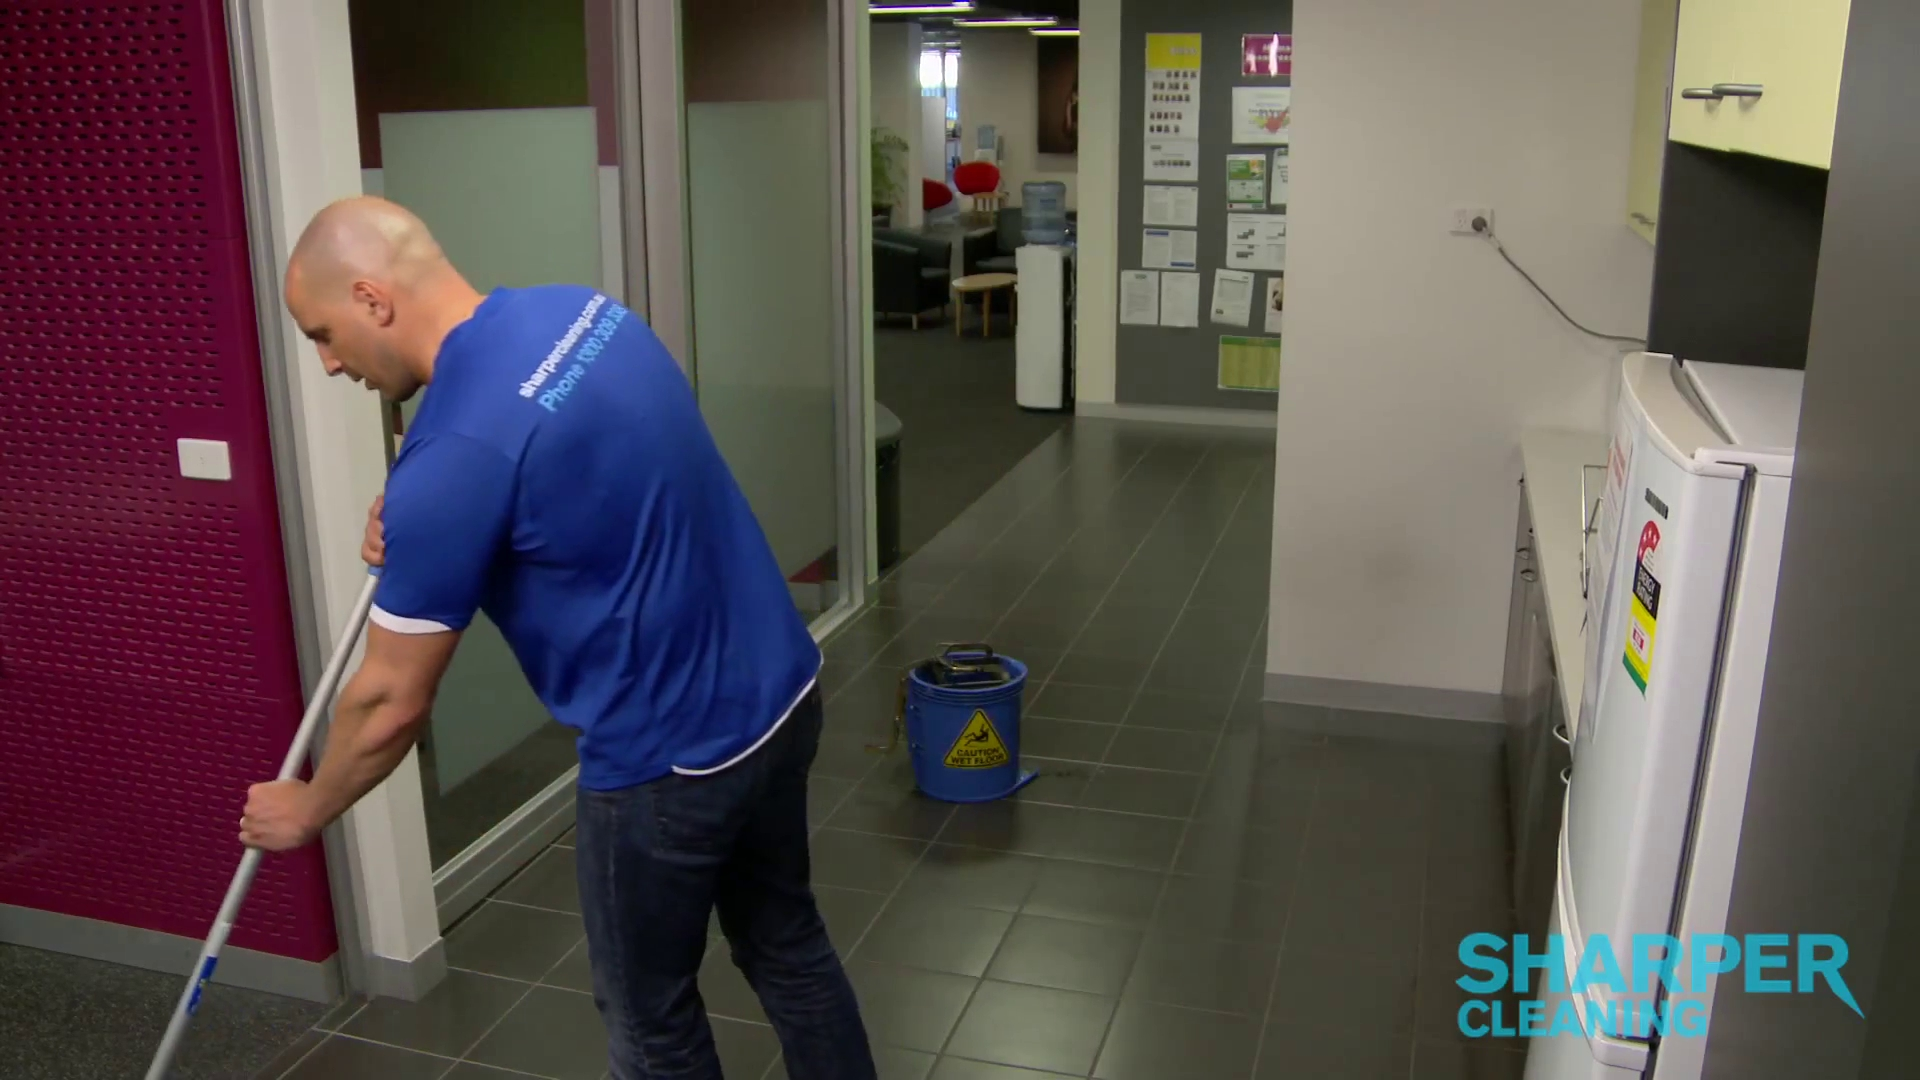person: (239, 196, 876, 1080)
